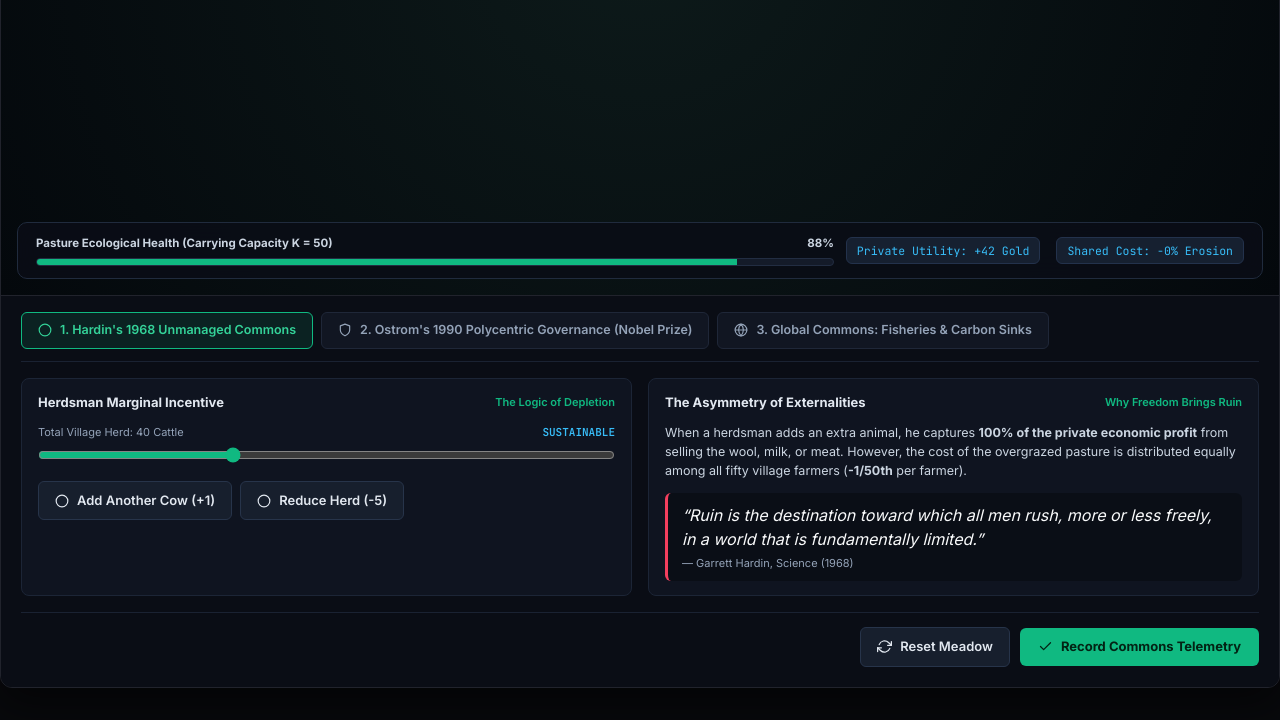
Test: TragedyOfCommons3DLab › adjusts herd size in Tab 1 (Hardin Unmanaged Commons)
The width and height of the screenshot is (1280, 720).
(page scrolled)
Click the button with aria-label "Add Another Cow (+1 Utility)". click: (135, 501)
box: [38,481,232,520]
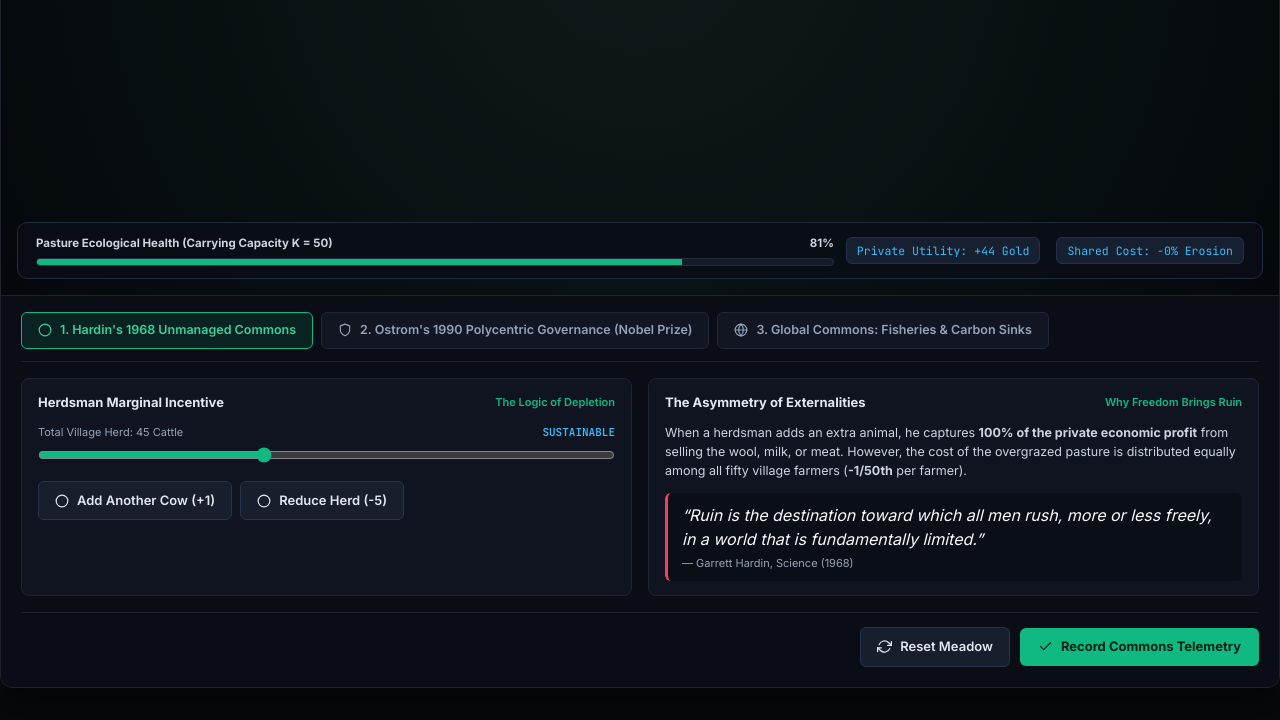
Click Reduce Herd
Click the button with aria-label "Remove Cattle". click: (322, 501)
box: [240,481,404,520]
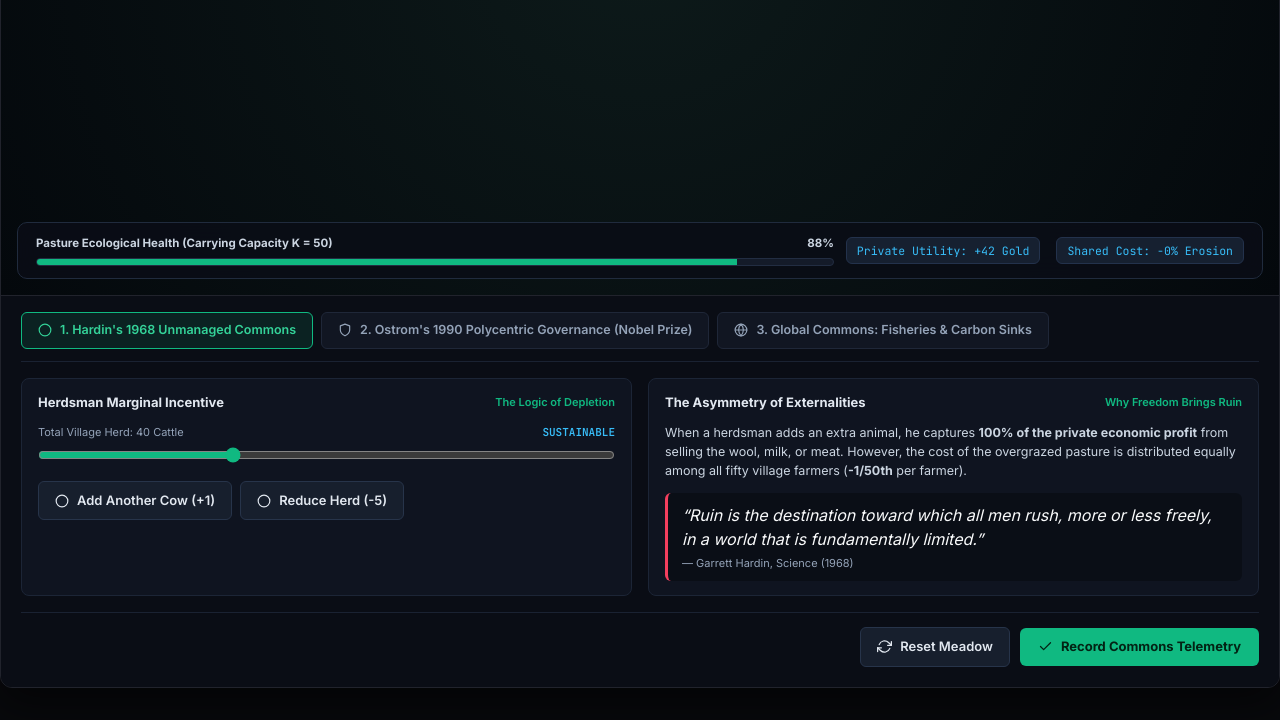
Move slider to 80 (Over capacity)
Set the slider named "Village Herd Size Slider" to "80". click: (482, 455)
box: [38,447,615,463]
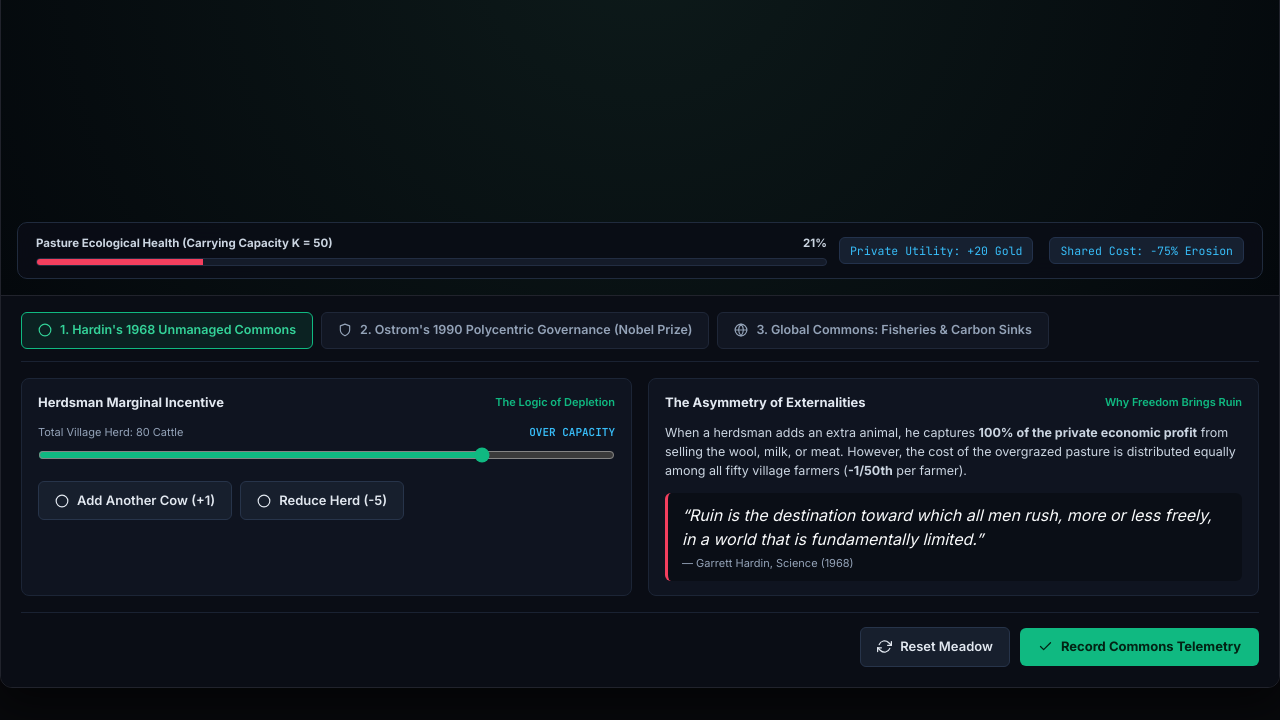
Expected: the text "OVER CAPACITY" is shown, [529,424,615,441]
